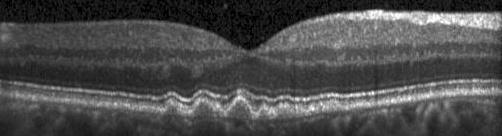retinal_drusen: (192, 100, 221, 118), (228, 99, 251, 119), (277, 107, 297, 118), (166, 105, 179, 115), (258, 108, 268, 121), (269, 111, 275, 117)
